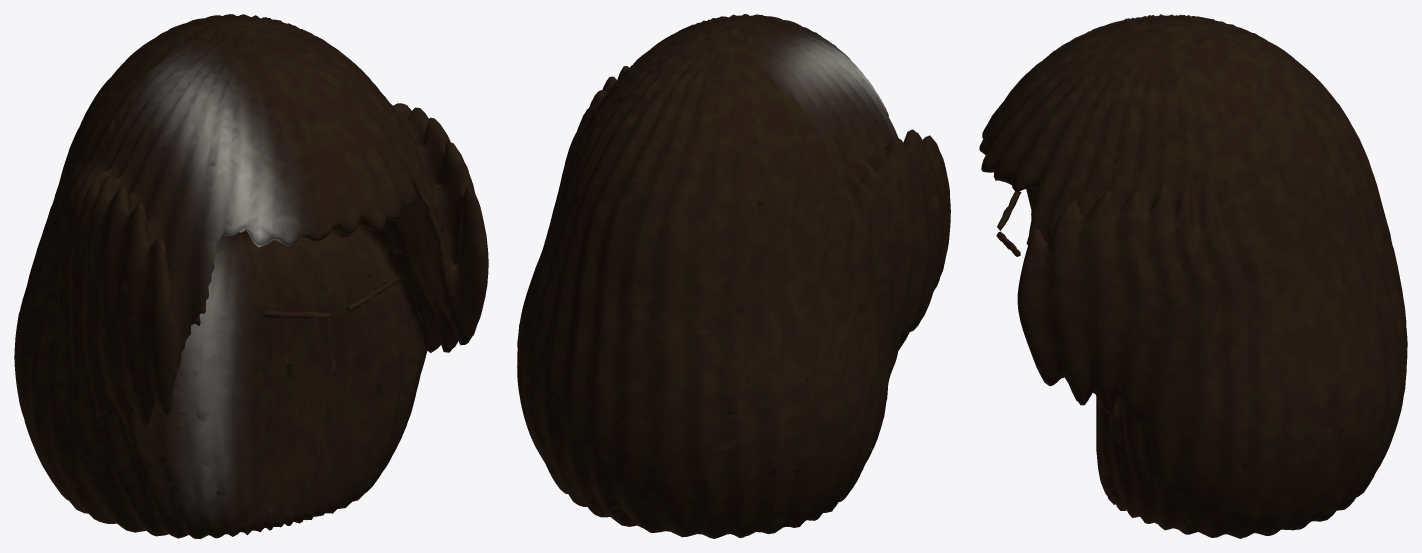
Rendered from savci_hair.glb.
3 renders of one model, left to right at view 1: azimuth 30°, elevation 25°; view 2: azimuth 150°, elevation 25°; view 3: azimuth 270°, elevation 25°, orthographic. The views are drawn at different scales.
Visible parts, largest first — view 1: geometry_0; view 2: geometry_0; view 3: geometry_0.
Part boxes in pixels (x1,y1,x2,y2): geometry_0: [14, 14, 488, 538]; geometry_0: [517, 14, 950, 538]; geometry_0: [979, 14, 1407, 538].
Bounding box in the file's own units: 0.1777 × 0.2224 × 0.1919.
